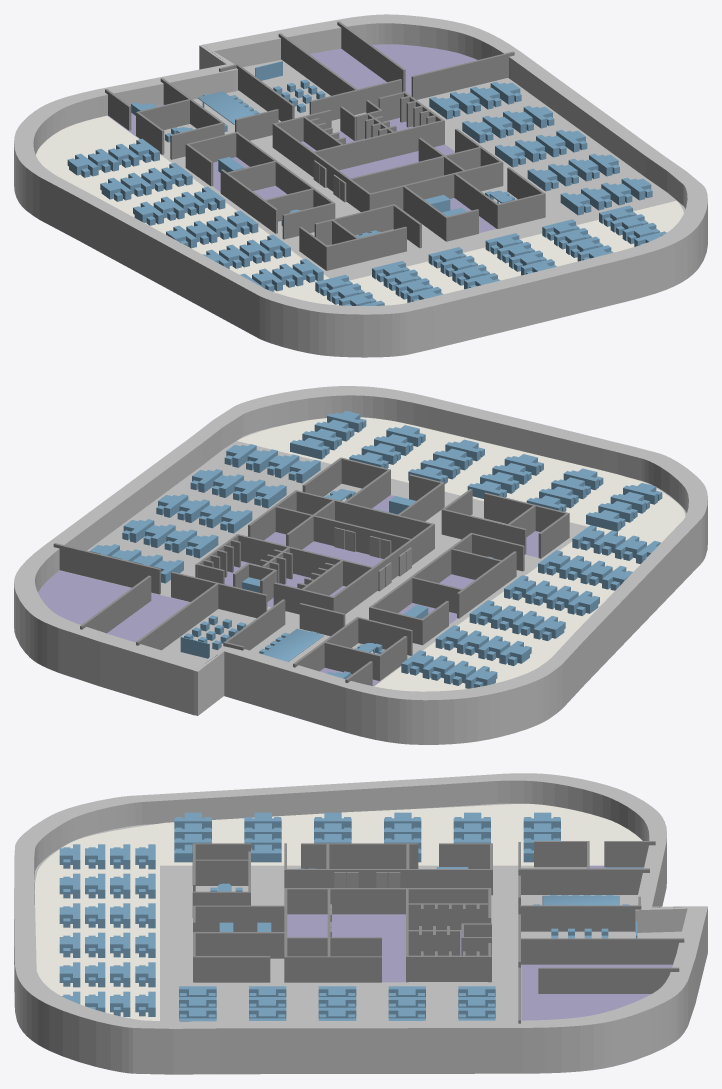
3 renders of one model, top to bottom at view 1: azimuth 30°, elevation 25°; view 2: azimuth 150°, elevation 25°; view 3: azimuth 270°, elevation 25°, orthographic. The views are drawn at different scales.
Parts seen in each view (by area): view 1: 外墙壁, 墙-西, cube, 白色地面, 紫色地面, 电梯; view 2: 外墙壁, 墙-西, cube, 白色地面, 紫色地面, 电梯; view 3: 外墙壁, 墙-西, cube, 白色地面, 紫色地面, 电梯.
Part boxes in pixels (box(x1,y1,x2,y2)): 外墙壁: box(14, 14, 707, 357); 墙-西: box(105, 21, 545, 270); cube: box(67, 61, 666, 305); 白色地面: box(36, 115, 683, 305); 紫色地面: box(107, 44, 496, 245); 电梯: box(313, 160, 346, 202); 外墙壁: box(14, 386, 707, 744); 墙-西: box(53, 457, 569, 685); cube: box(90, 410, 662, 688); 白色地面: box(237, 417, 685, 691); 紫色地面: box(38, 495, 539, 686); 电梯: box(334, 527, 411, 591); 外墙壁: box(14, 773, 707, 1074); 墙-西: box(192, 841, 684, 1023); cube: box(59, 812, 643, 1021); 白色地面: box(34, 804, 642, 1020); 紫色地面: box(287, 865, 672, 1020); 电梯: box(330, 872, 400, 937).
Bounding box in the file's own units: 433 × 38.71 × 497.
